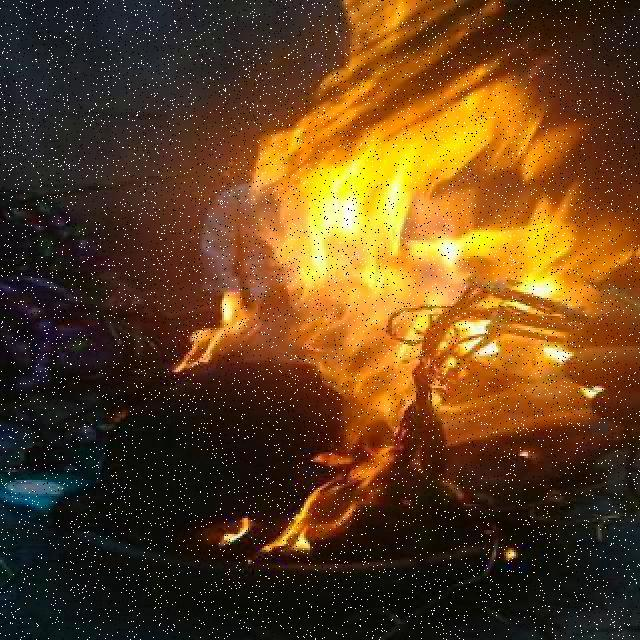Fire: (180, 6, 626, 556)
